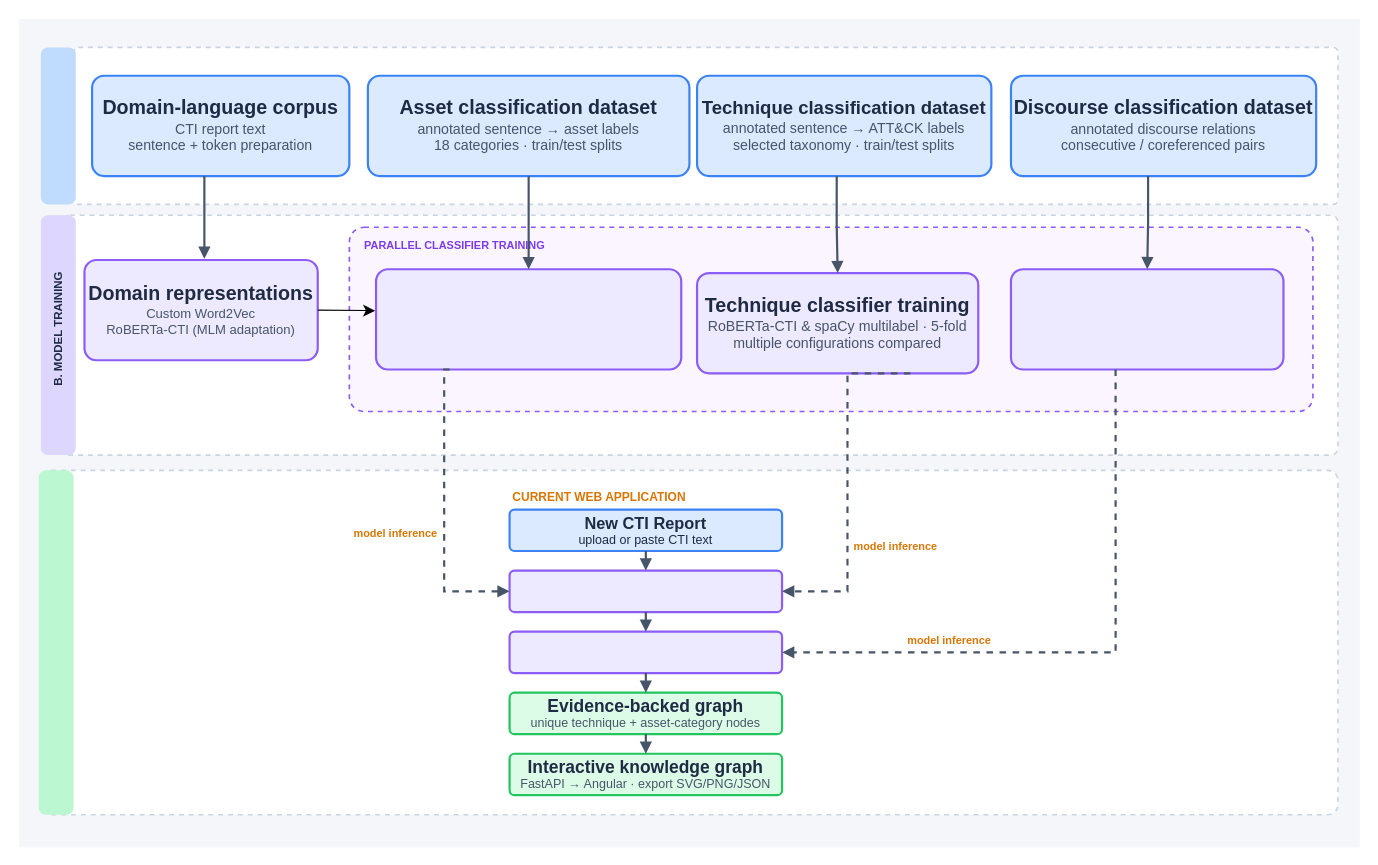
The diagram is 1378 pixels wide and 865 high, and some of its shapes have lost their labels. The centre of each missing label's shape, as x and y in pixels:
A. DATASET PREPARATION: point 57,125
Asset classifier training RoBERTa -CTI & spaCy multilabel 18 categories · 5-fold: point 528,319
C. NEW CTI REPORT ANALYSIS AND GRAPH GENERATION: point 55,642
Discourse classifier training RoBERTa-CTI based consecutive + coreferenced: point 1146,319
Segmentation + detection detect techniques and assets: point 645,591
Threshold filtering + aggregation mention counts · supporting sentences: point 645,652
